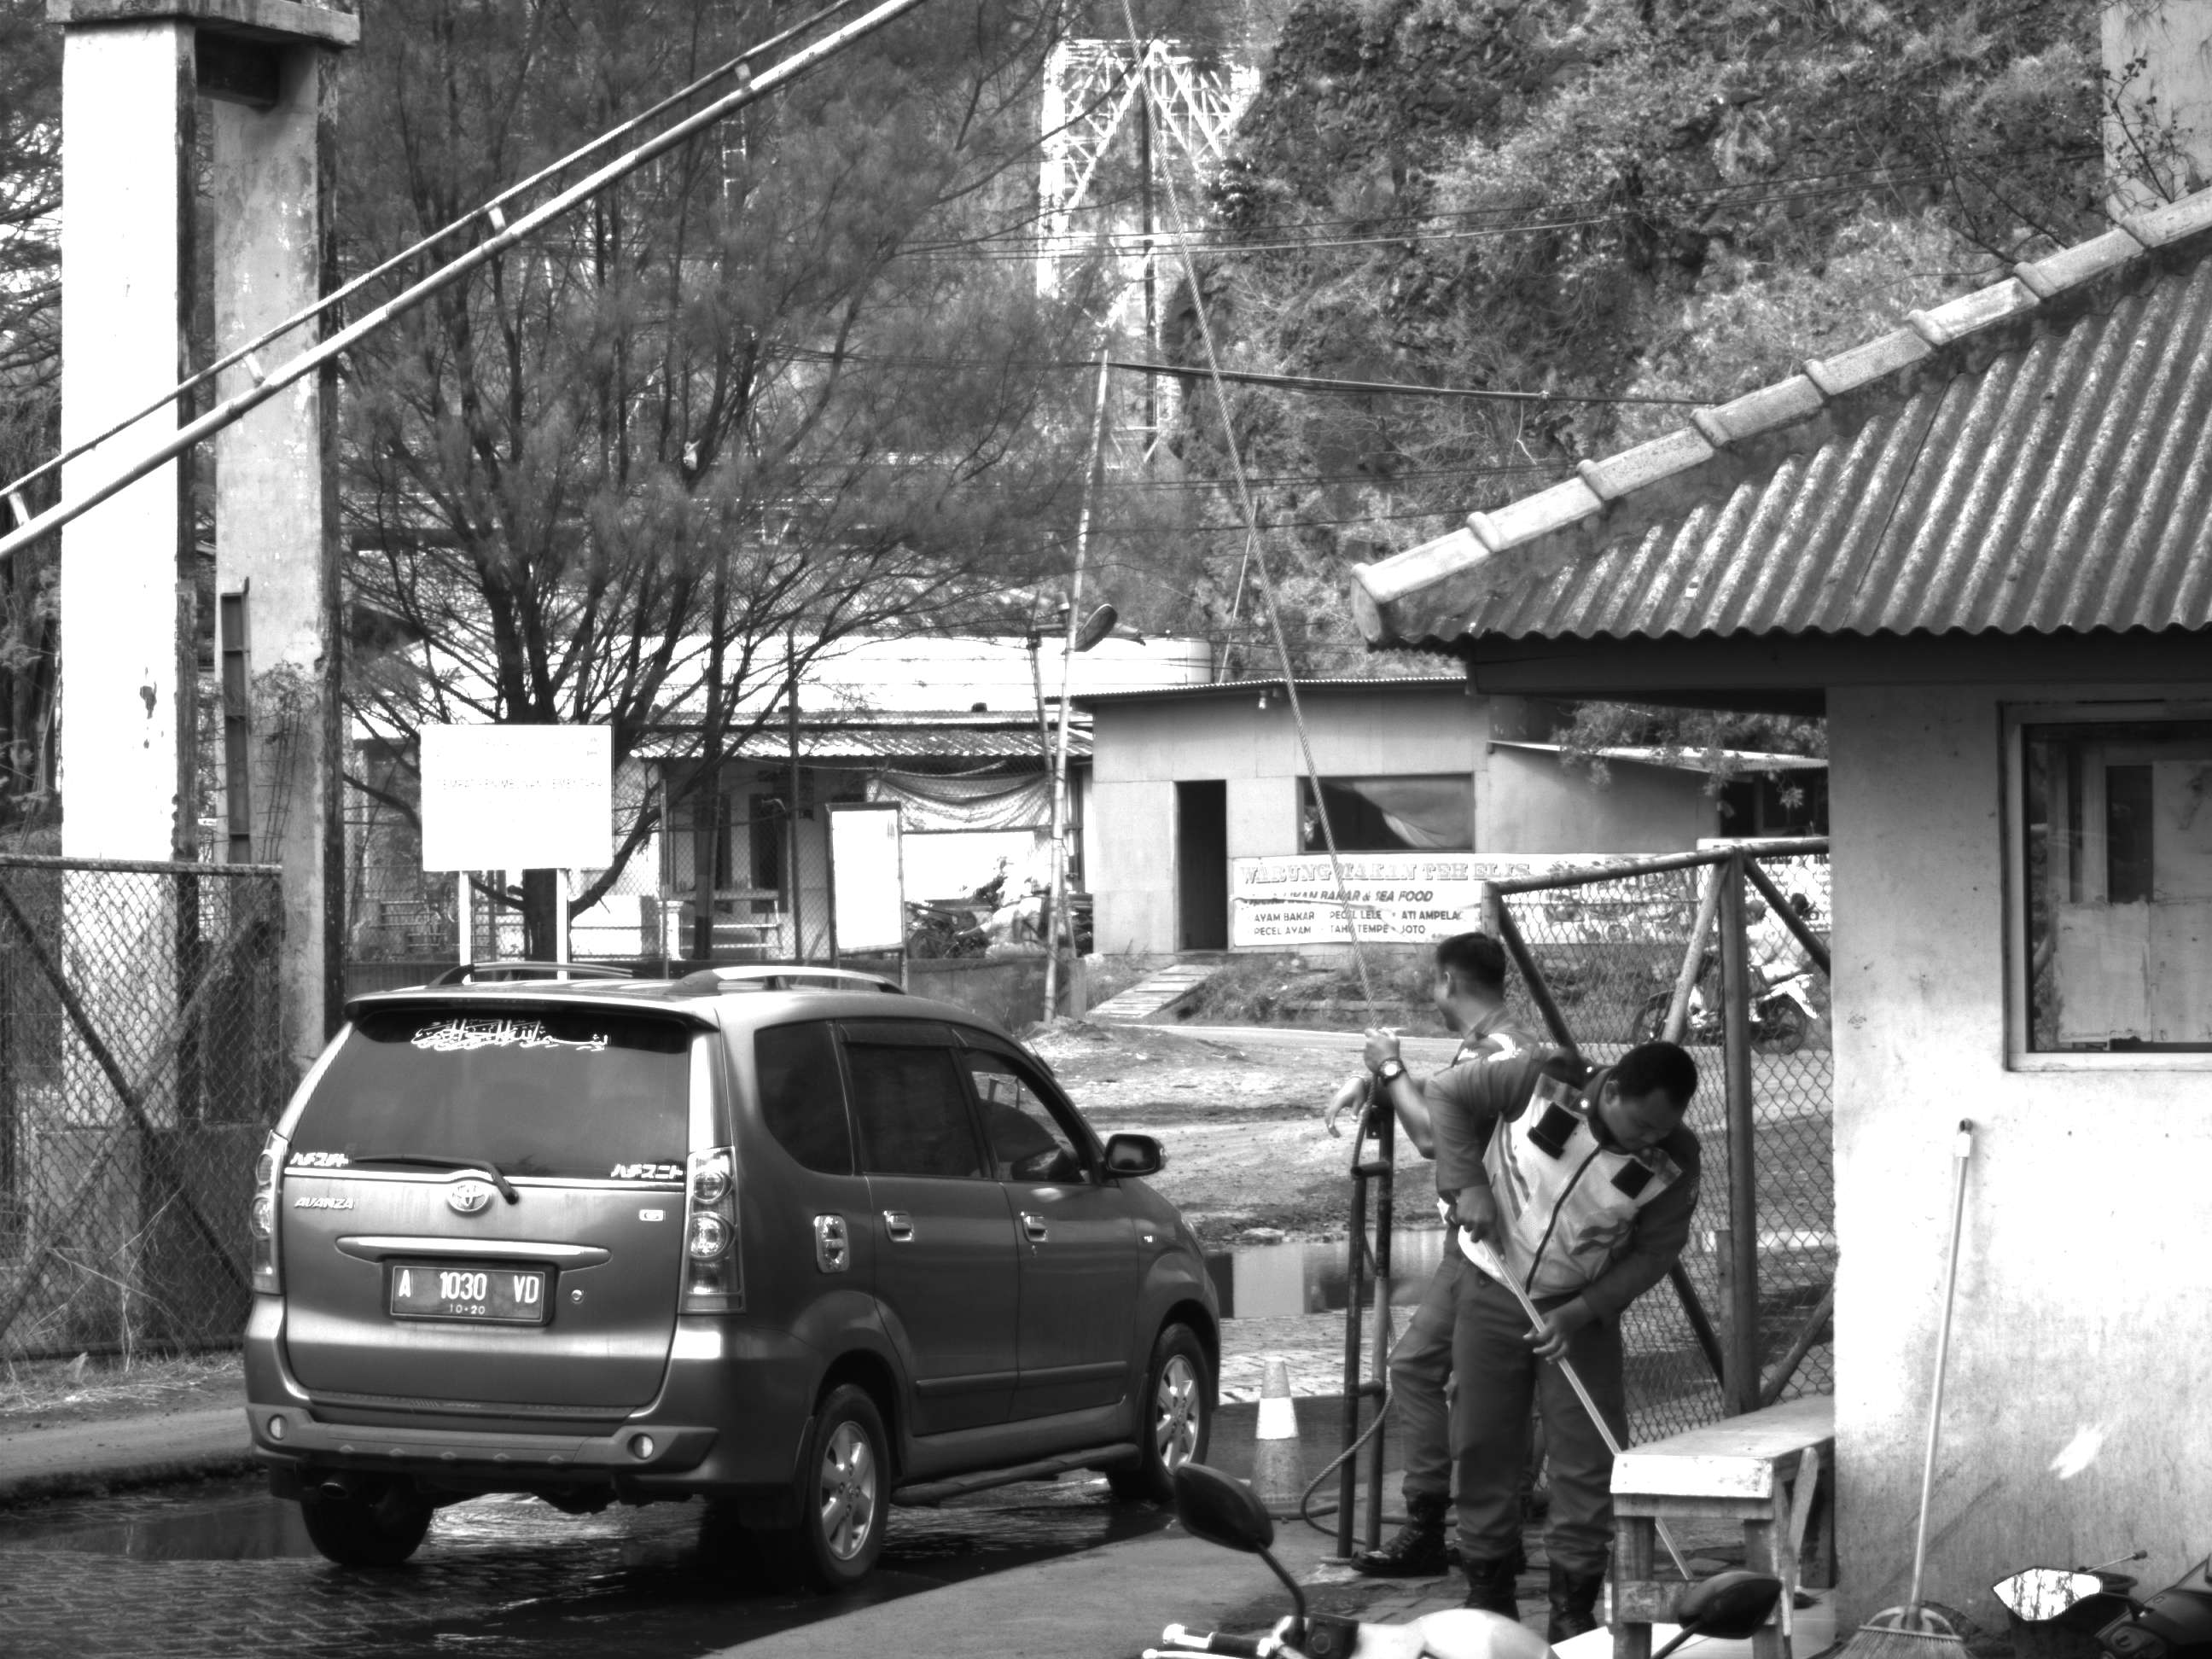day_small_rear: (235, 967, 905, 1590)
plate: (381, 1257, 555, 1336)
